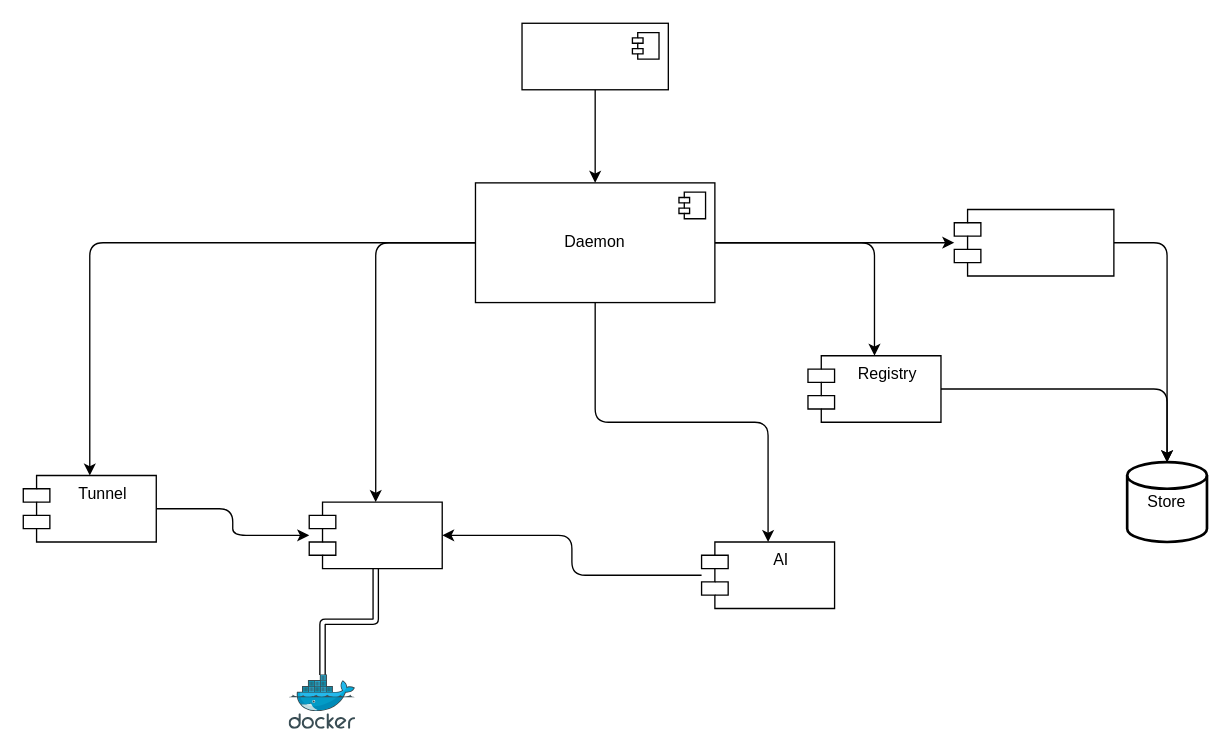
Some shapes in this 1232 by 753 pixel diagram are drawn without their labels. The centre of each missing label's shape, as x and y in pixels:
"Authentication" belongs at point (1033, 242).
"CLI" belongs at point (594, 56).
"Docker" belongs at point (375, 535).
